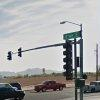Traffic light: (52, 36, 86, 89)
